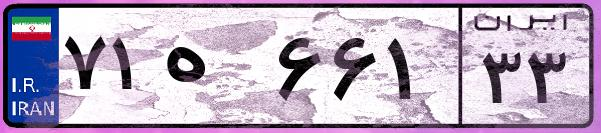1: (385, 28, 445, 110), (110, 28, 158, 98)
3: (475, 38, 525, 113), (525, 38, 570, 115)
6: (270, 28, 330, 110), (330, 28, 385, 110)
7: (57, 26, 110, 100)
ه: (158, 20, 270, 120)
